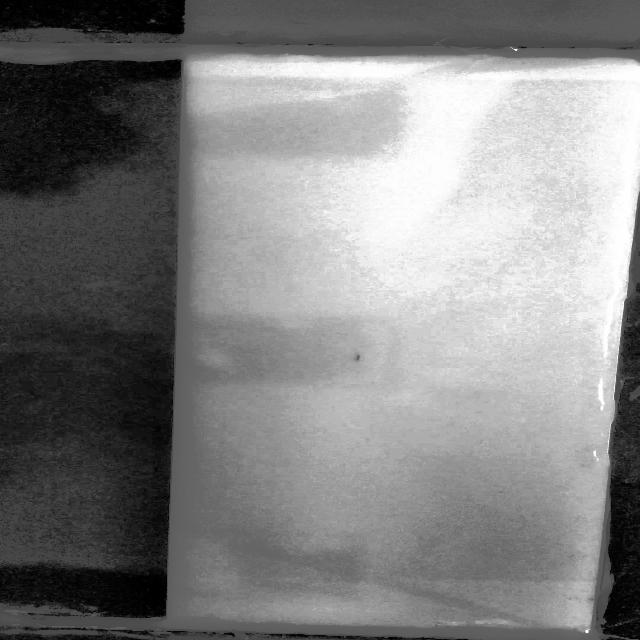shrimp: (348, 350, 364, 367)
